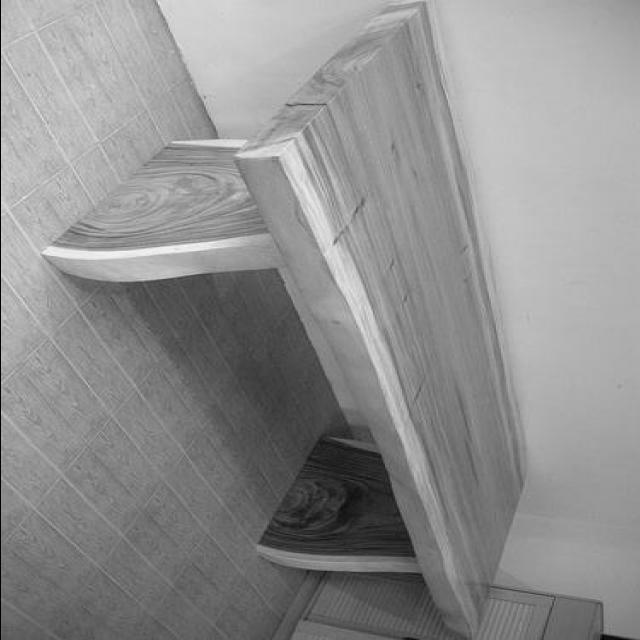table: (41, 1, 531, 638)
